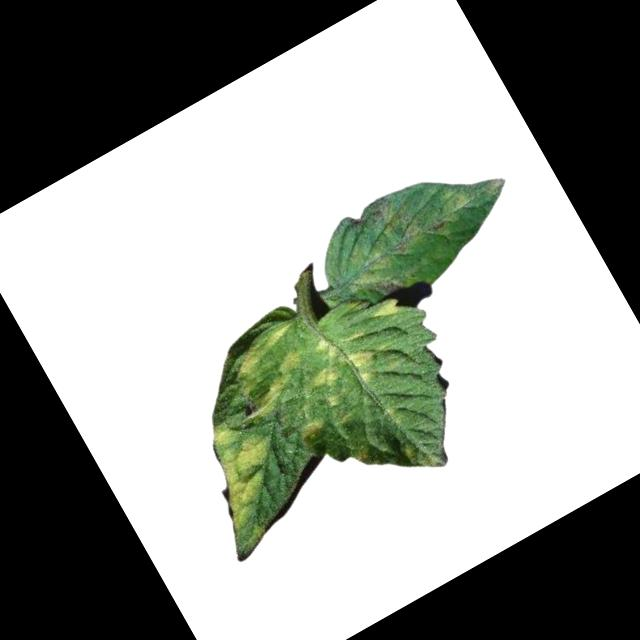Leaf_Mold: (305, 140, 531, 327), (185, 403, 301, 533), (220, 322, 320, 420), (300, 316, 392, 410), (295, 412, 337, 450), (370, 295, 404, 323), (355, 443, 380, 468)
